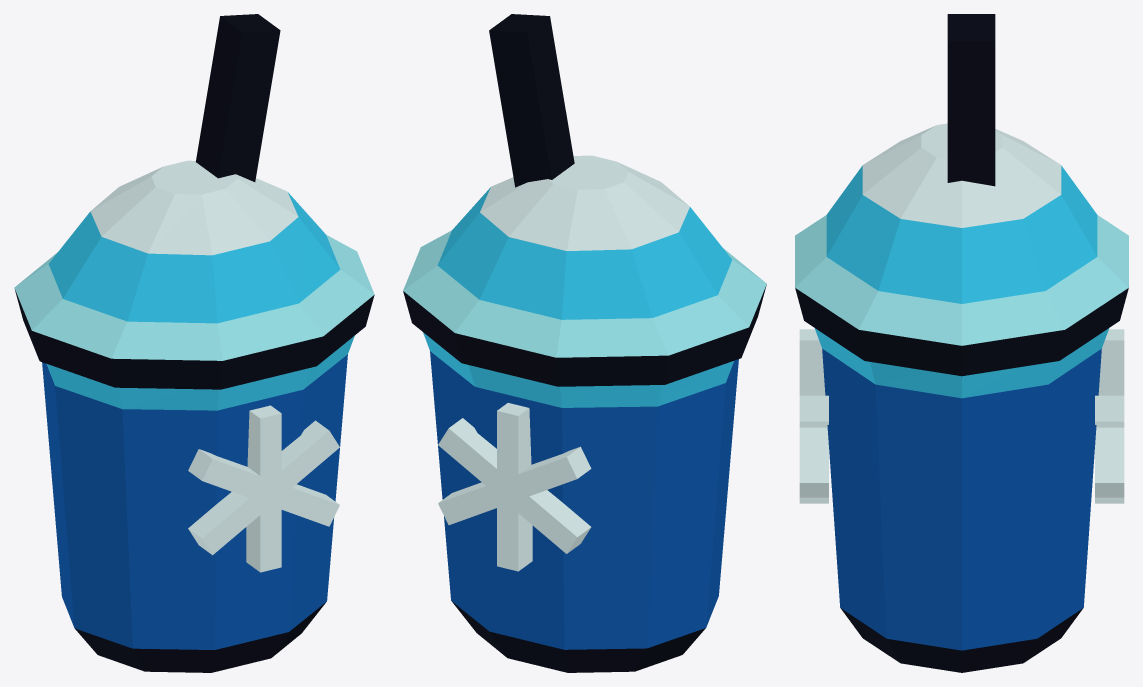
The model's file is CalmSlush.glb.
The picture shows the model from 3 angles, left to right: view 1: azimuth 30°, elevation 25°; view 2: azimuth 150°, elevation 25°; view 3: azimuth 270°, elevation 25°; orthographic projection. The views are drawn at different scales.
Parts seen in each view (by area): view 1: CalmSlush; view 2: CalmSlush; view 3: CalmSlush.
Part boxes in pixels (bbox=[...]): CalmSlush: bbox=[14, 14, 374, 672]; CalmSlush: bbox=[403, 14, 766, 672]; CalmSlush: bbox=[795, 14, 1128, 672].
Bounding box in the file's own units: 0.84 × 1.47 × 0.7038.
